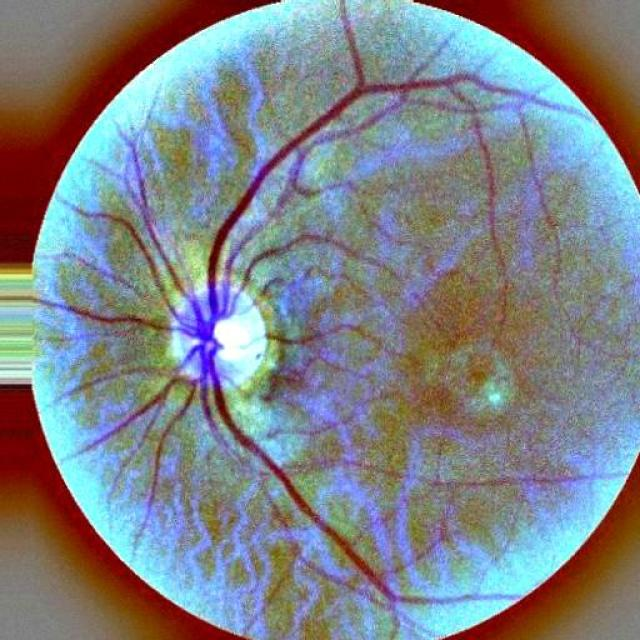Macula: (417, 285, 501, 409)
Nerves: (201, 77, 566, 614)
Optic Disk: (159, 289, 270, 398)
